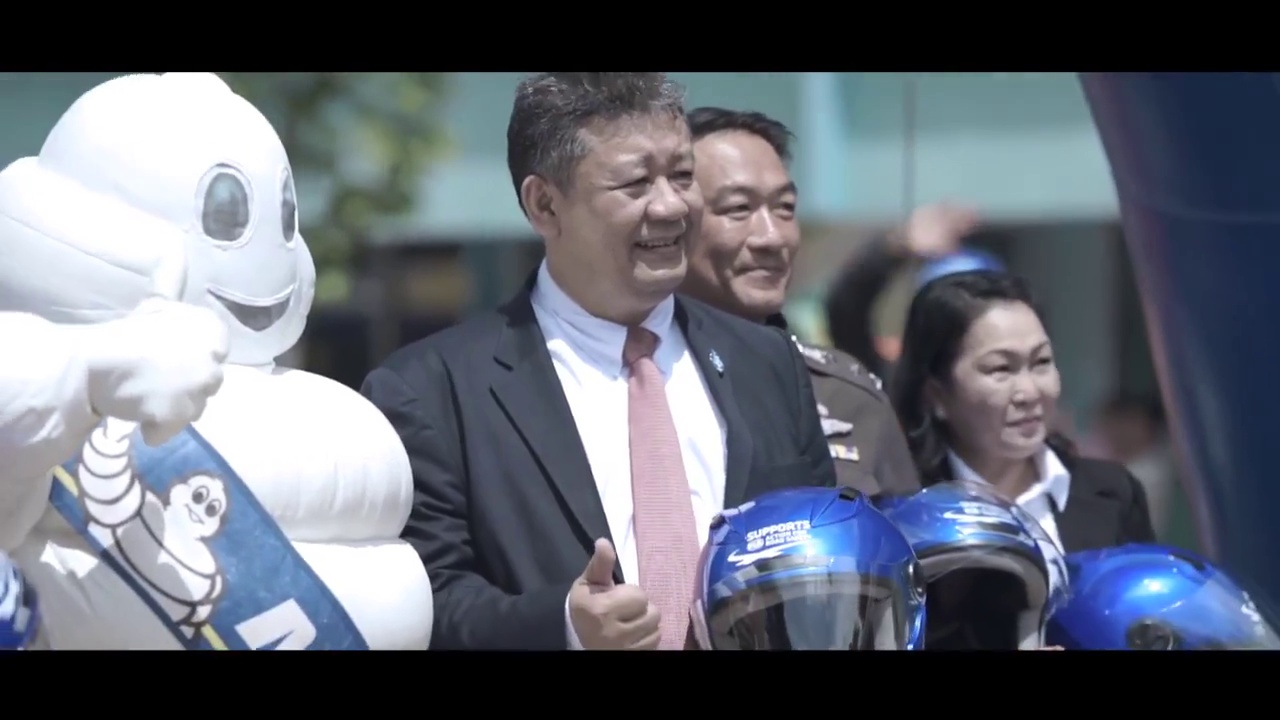helmet: (678, 482, 918, 655), (892, 476, 1060, 650), (1063, 522, 1276, 659)
